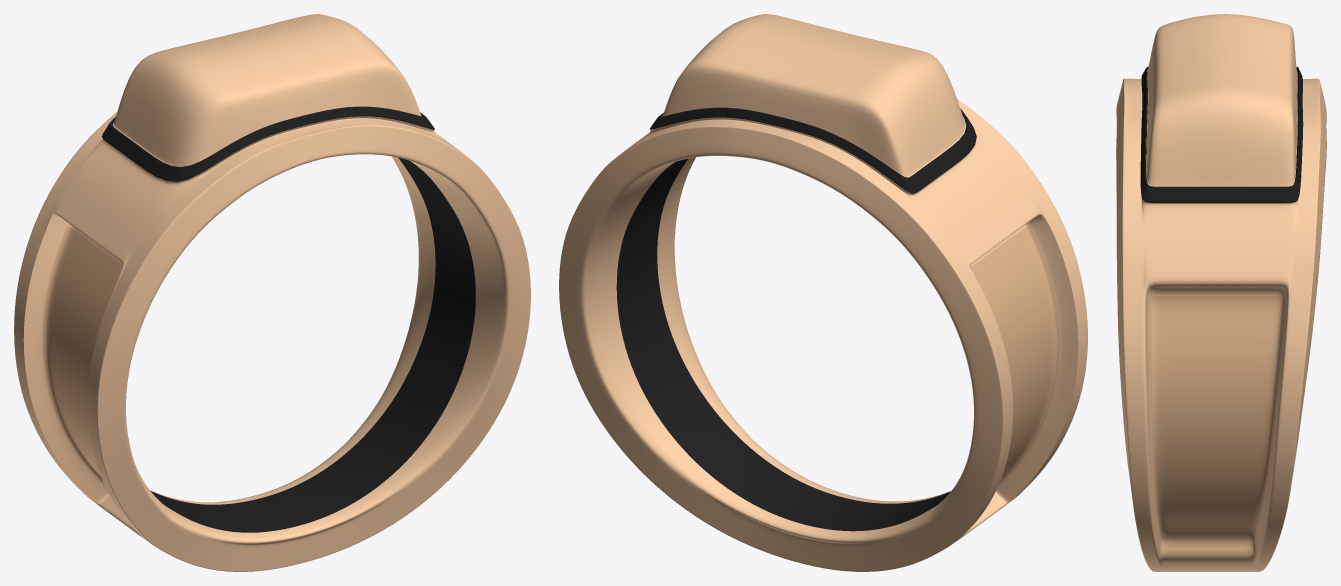
File: golden_ring_2.glb
The picture shows the model from 3 angles, left to right: view 1: azimuth 30°, elevation 25°; view 2: azimuth 150°, elevation 25°; view 3: azimuth 270°, elevation 25°; orthographic projection. The views are drawn at different scales.
Parts seen in each view (by area): view 1: Cylinder.001; view 2: Cylinder.001; view 3: Cylinder.001.
Boxes of the visible parts, left/top/right/bottom form: Cylinder.001: left=14, top=14, right=530, bottom=571; Cylinder.001: left=559, top=14, right=1087, bottom=571; Cylinder.001: left=1116, top=14, right=1326, bottom=571.
Size of the model in its own units: 2.24 by 2.45 by 0.9484.
